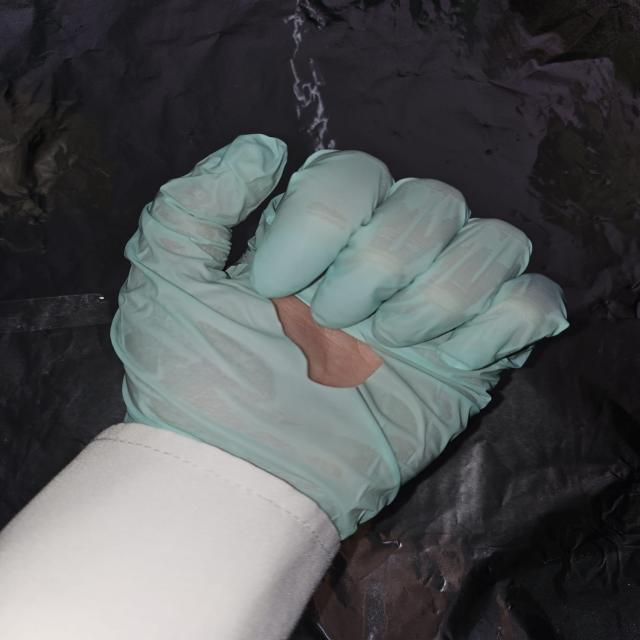gloves_damaged: (110, 132, 573, 538)
